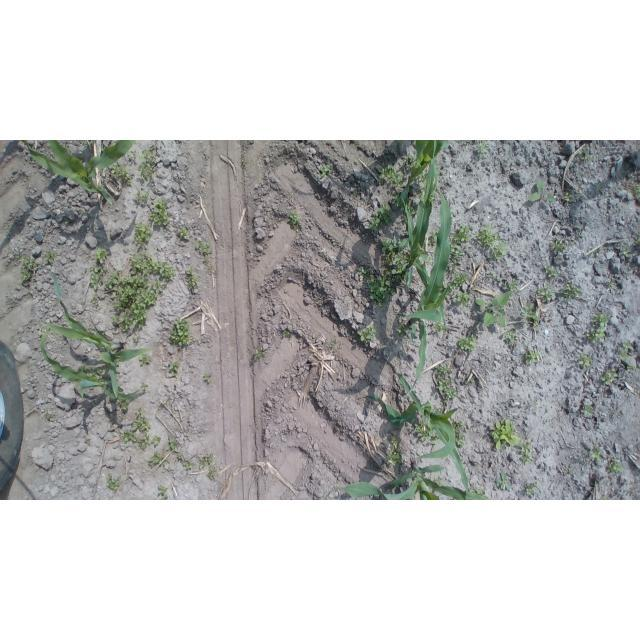Maize: (42, 271, 151, 401), (356, 370, 471, 493), (400, 189, 452, 399), (399, 156, 447, 340), (35, 326, 146, 402), (26, 140, 138, 205), (324, 462, 489, 500), (396, 140, 451, 206)
Weeds: (104, 252, 177, 332), (475, 292, 513, 328), (379, 237, 409, 276), (489, 419, 523, 450), (366, 275, 395, 307), (367, 200, 395, 232), (585, 313, 611, 341), (376, 163, 404, 187), (528, 179, 556, 203), (170, 318, 193, 347), (149, 198, 170, 228), (415, 420, 440, 444), (476, 224, 501, 247), (132, 221, 152, 249), (137, 152, 156, 181), (18, 256, 37, 284), (446, 268, 467, 293), (112, 163, 133, 185), (520, 304, 537, 328), (133, 410, 151, 432), (90, 268, 107, 291), (357, 325, 377, 344), (451, 225, 472, 243), (448, 241, 465, 263), (488, 242, 508, 260), (185, 268, 200, 292), (496, 469, 513, 490), (147, 452, 170, 467), (458, 334, 477, 352), (561, 283, 582, 299), (538, 284, 556, 302), (287, 212, 301, 233), (600, 369, 617, 386), (86, 366, 104, 382), (520, 444, 533, 465), (385, 451, 403, 466), (122, 429, 141, 443), (106, 476, 121, 493), (455, 290, 469, 308), (579, 354, 593, 371), (96, 246, 109, 264), (195, 241, 213, 254), (525, 350, 540, 365), (504, 328, 521, 341), (168, 361, 181, 378), (620, 343, 632, 361), (524, 484, 540, 497), (476, 140, 489, 156), (135, 191, 149, 205), (578, 147, 592, 161), (200, 455, 213, 470), (44, 250, 57, 265), (139, 433, 151, 449), (551, 240, 567, 252), (590, 444, 601, 461), (429, 229, 440, 246), (450, 419, 465, 431), (168, 438, 180, 453), (504, 279, 519, 291), (396, 322, 408, 337), (608, 462, 624, 473), (139, 354, 152, 367), (544, 265, 558, 277), (414, 171, 429, 182), (178, 228, 191, 240), (320, 164, 332, 177), (432, 323, 446, 334), (562, 191, 572, 206), (469, 488, 485, 497), (158, 484, 167, 500), (356, 268, 372, 277), (388, 435, 398, 449), (455, 433, 465, 447), (407, 203, 417, 216), (208, 466, 217, 480), (393, 188, 400, 206), (581, 405, 593, 415), (120, 401, 130, 412), (77, 363, 88, 373), (413, 187, 424, 197), (404, 156, 416, 165), (488, 271, 501, 279), (401, 207, 407, 224), (88, 295, 98, 305), (151, 435, 161, 445), (129, 150, 138, 159), (183, 460, 193, 468), (253, 349, 261, 359), (464, 378, 475, 385), (624, 248, 632, 257), (204, 374, 212, 383), (132, 334, 141, 342), (634, 187, 640, 198), (43, 412, 51, 420), (396, 275, 403, 284), (609, 281, 617, 288), (141, 383, 148, 391), (432, 406, 440, 413), (84, 141, 92, 148), (401, 272, 407, 281), (242, 154, 247, 164), (76, 156, 83, 163), (176, 453, 184, 459), (329, 340, 335, 348), (429, 192, 435, 200), (616, 412, 622, 419), (284, 331, 291, 337), (65, 219, 72, 225), (627, 364, 632, 372), (600, 496, 608, 500), (113, 141, 119, 146), (100, 147, 105, 153), (116, 362, 123, 366), (637, 237, 640, 246), (532, 404, 537, 409), (353, 192, 358, 197), (592, 252, 597, 256), (579, 232, 584, 236), (597, 186, 601, 191), (629, 187, 633, 191), (204, 258, 208, 261), (165, 401, 168, 404), (18, 140, 22, 142)
